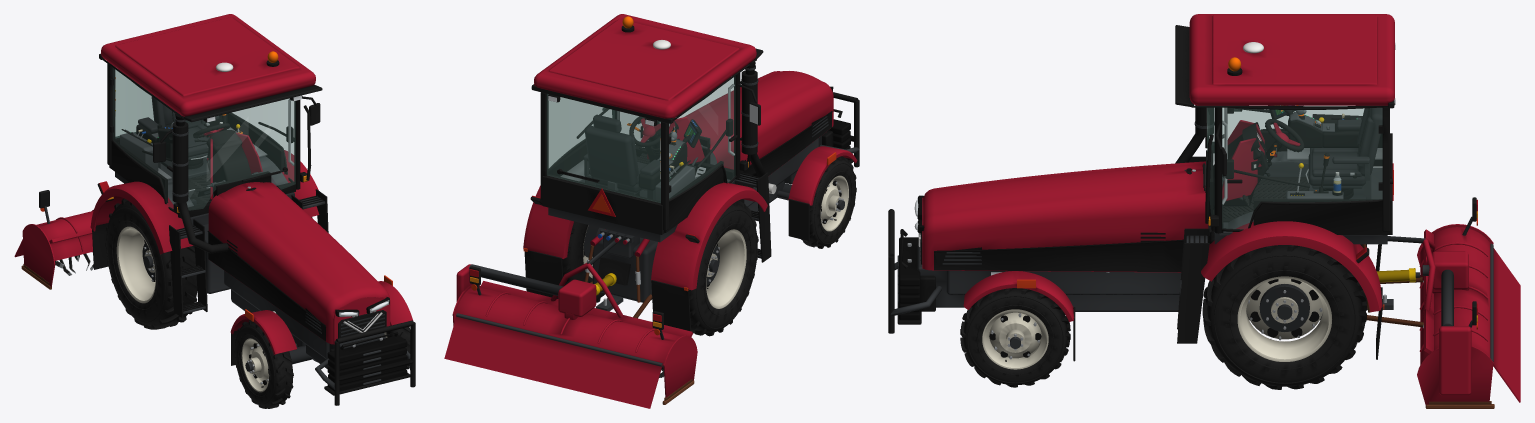
File: tractor_yt.glb
3 renders of one model, left to right at view 1: azimuth 30°, elevation 25°; view 2: azimuth 150°, elevation 25°; view 3: azimuth 270°, elevation 25°, orthographic. The views are drawn at different scales.
Parts seen in each view (by area): view 1: Body, Glass, Interior, WheelRR, Rotary, WheelFR, SteerFR, SteerFL; view 2: Body, Glass, Rotary, Flap, Interior, WheelRR, WheelFR, SteerFR, WheelRL, SteeringWheel; view 3: Body, WheelRL, Glass, Rotary, Interior, WheelFL, Flap, SteerFL, SteeringWheel.
Boxes of the visible parts, x1,y1,x2,y2 form: Body: (90,14,415,405); Glass: (113,68,295,210); Interior: (115,77,294,218); WheelRR: (105,198,197,329); Rotary: (21,190,93,289); WheelFR: (234,320,293,408); SteerFR: (230,309,296,365); SteerFL: (378,275,413,334); Body: (523,14,859,331); Glass: (547,77,735,202); Rotary: (452,239,697,404); Flap: (444,313,662,408); Interior: (560,83,734,201); WheelRR: (689,200,758,336); WheelFR: (801,156,856,248); SteerFR: (788,146,857,240); WheelRL: (562,221,605,302); SteeringWheel: (629,116,660,147); Body: (888,14,1395,359); WheelRL: (1202,245,1366,389); Glass: (1207,107,1382,229); Rotary: (1366,197,1494,408); Interior: (1213,105,1382,235); WheelFL: (960,288,1070,387); Flap: (1490,243,1520,402); SteerFL: (963,271,1075,361); SteeringWheel: (1265,119,1304,152).
Size of the model in its own units: 2.35 by 2.79 by 5.05.
Materials: 38 (2 with a texture image).
